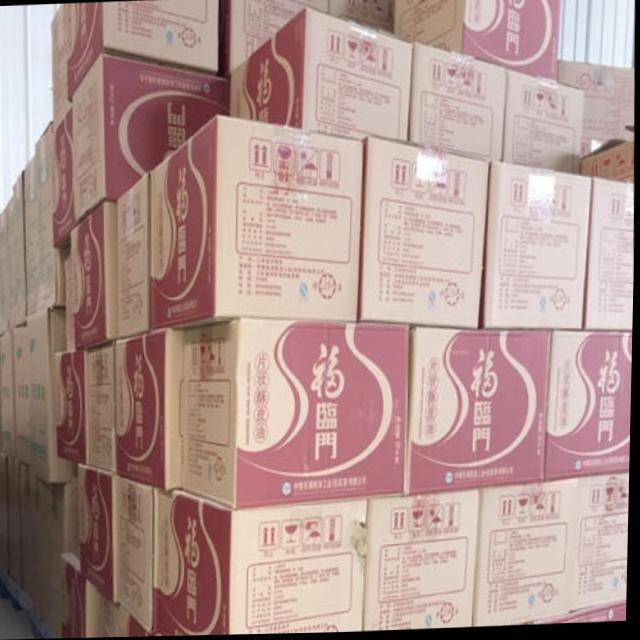box: (151, 115, 364, 331), (184, 319, 411, 511), (160, 488, 370, 637), (72, 54, 230, 225), (359, 137, 491, 331), (229, 8, 414, 144), (409, 328, 553, 499), (485, 160, 592, 332), (365, 490, 482, 631), (65, 0, 218, 104), (475, 479, 580, 626), (394, 0, 561, 84), (548, 333, 633, 484), (409, 43, 507, 162), (116, 327, 184, 491), (29, 305, 79, 483), (503, 70, 584, 177), (223, 0, 330, 77), (574, 474, 632, 613), (24, 120, 65, 316), (557, 63, 633, 159), (586, 180, 633, 332), (116, 476, 160, 635), (71, 202, 117, 351), (116, 172, 151, 339), (80, 464, 116, 606), (37, 474, 67, 639), (55, 349, 88, 465), (88, 342, 116, 472), (89, 580, 151, 638), (53, 106, 75, 250), (51, 4, 72, 132), (329, 0, 395, 38), (15, 324, 32, 469), (579, 142, 633, 187), (12, 171, 27, 327), (62, 555, 89, 639), (1, 329, 17, 459), (22, 463, 37, 601), (0, 198, 15, 335), (9, 456, 24, 589), (62, 478, 81, 572), (63, 245, 77, 350)
